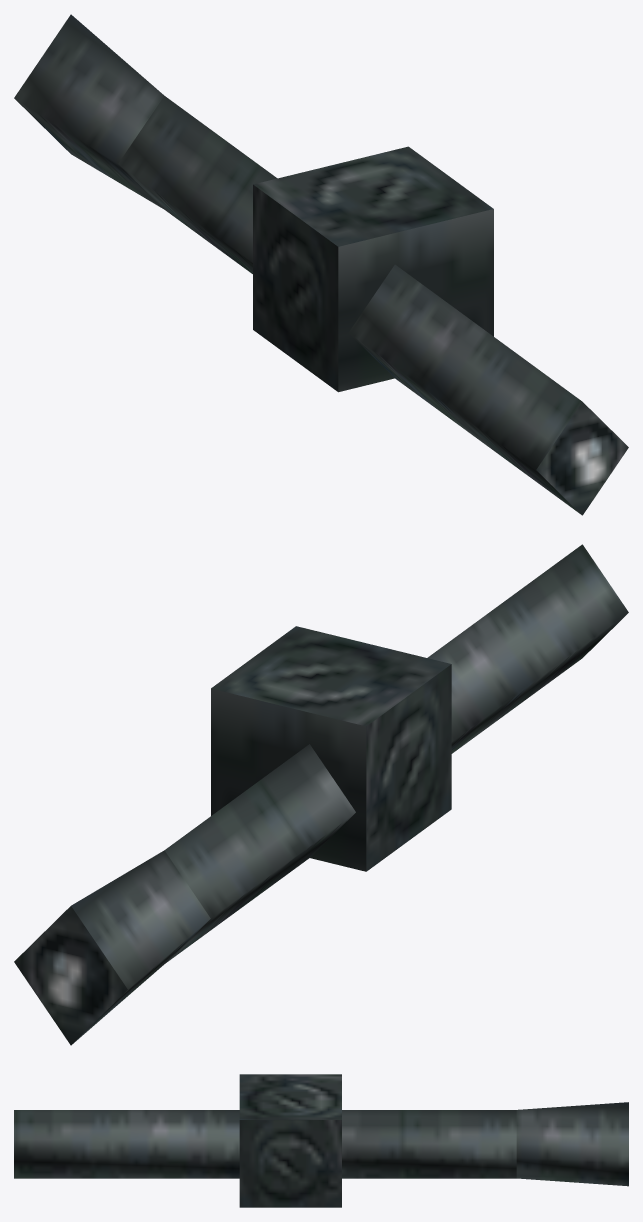
Rendered from wp_pistol_scout_scope_l1.fbx.
The picture shows the model from 3 angles, top to bottom: view 1: azimuth 30°, elevation 25°; view 2: azimuth 150°, elevation 25°; view 3: azimuth 270°, elevation 25°; orthographic projection. The views are drawn at different scales.
Visible parts, largest first — view 1: mesh_node; view 2: mesh_node; view 3: mesh_node.
Part boxes in pixels (box(x1,y1,x2,y2)): mesh_node: box(14, 14, 628, 515); mesh_node: box(14, 544, 628, 1045); mesh_node: box(14, 1074, 628, 1207).
Size of the model in its own units: 0.0358 by 0.0348 by 0.2035.
